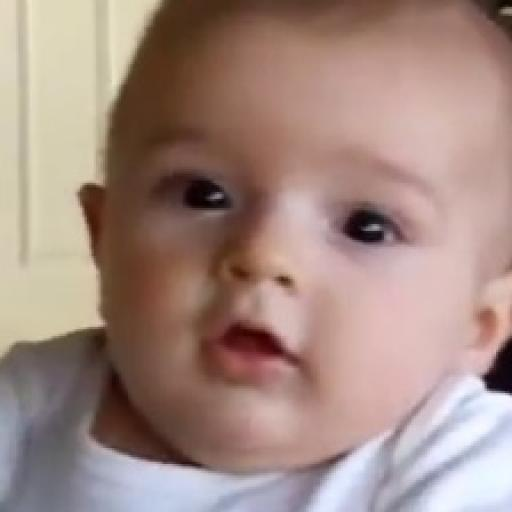Autism: (122, 9, 510, 460)
